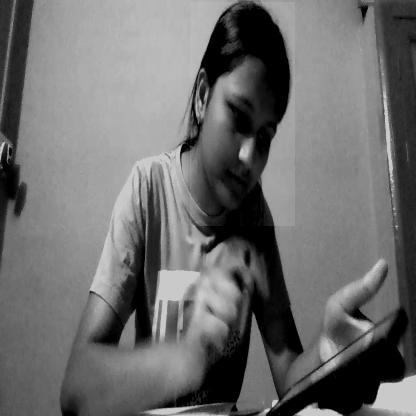Distracted: (190, 2, 295, 226)
